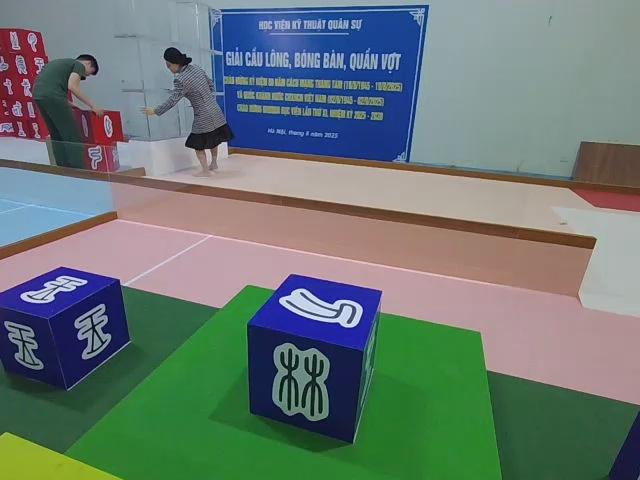R2 Fake Blue: (245, 275, 381, 445)
R2 Real Blue: (3, 267, 133, 392)
